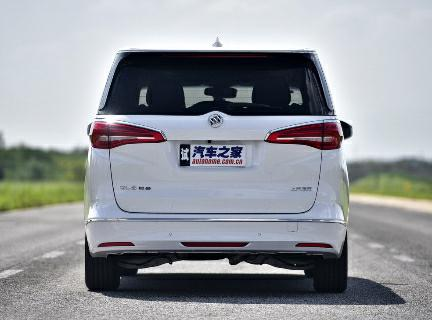别克-凯越: (75, 34, 360, 291)
